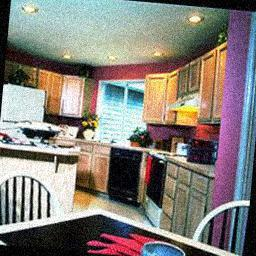Electrodomestico: (107, 147, 145, 203), (143, 151, 168, 221)
